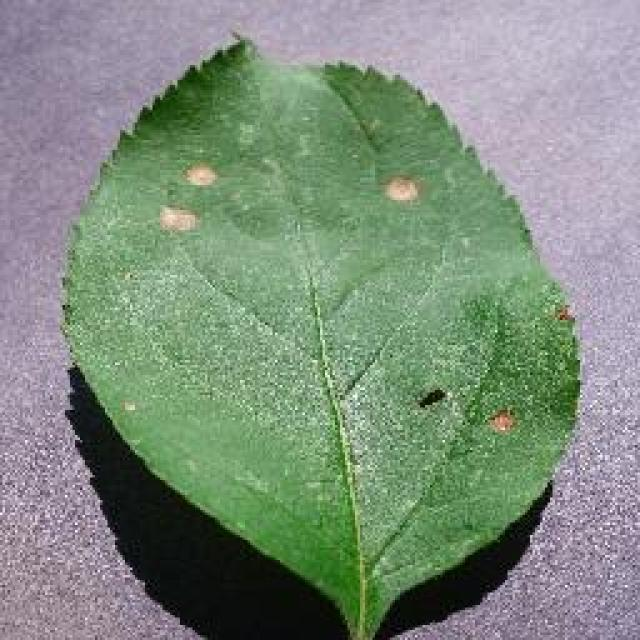apple healthy: (58, 30, 582, 638)
